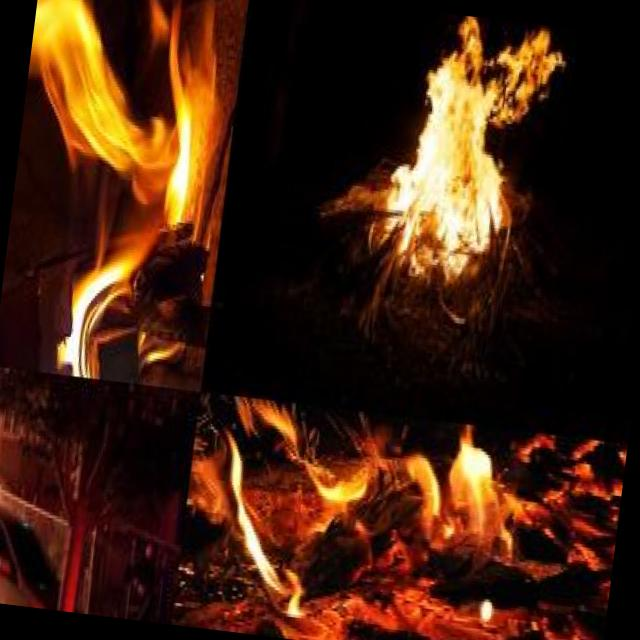fire: (178, 392, 532, 640), (368, 8, 570, 300), (7, 0, 219, 264)
